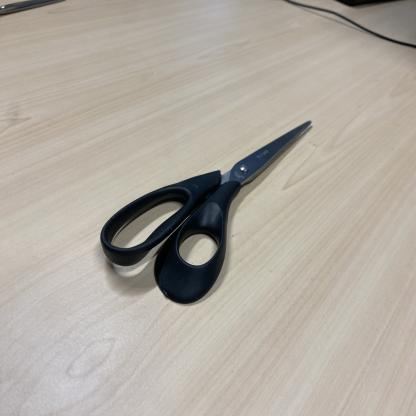scissors: (100, 120, 312, 308)
